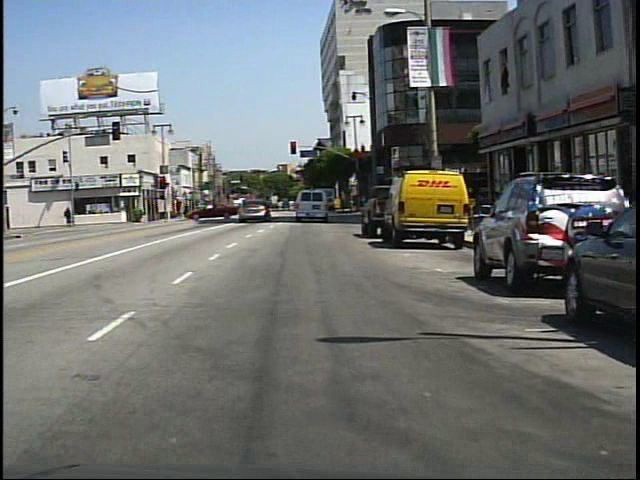person: (261, 193, 278, 224), (63, 205, 73, 225)
